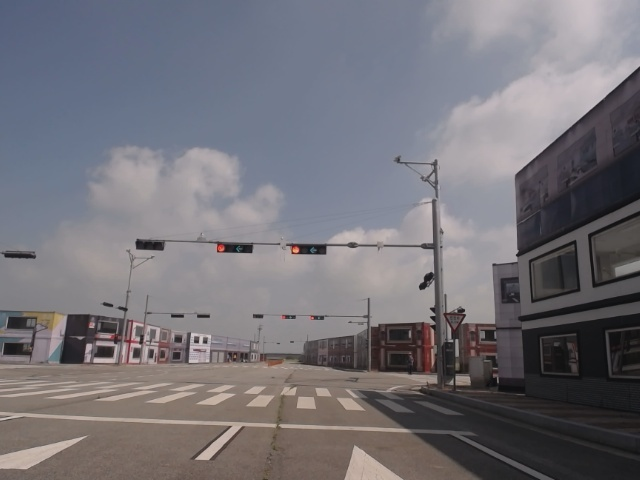left_green_4: (216, 241, 253, 253)
